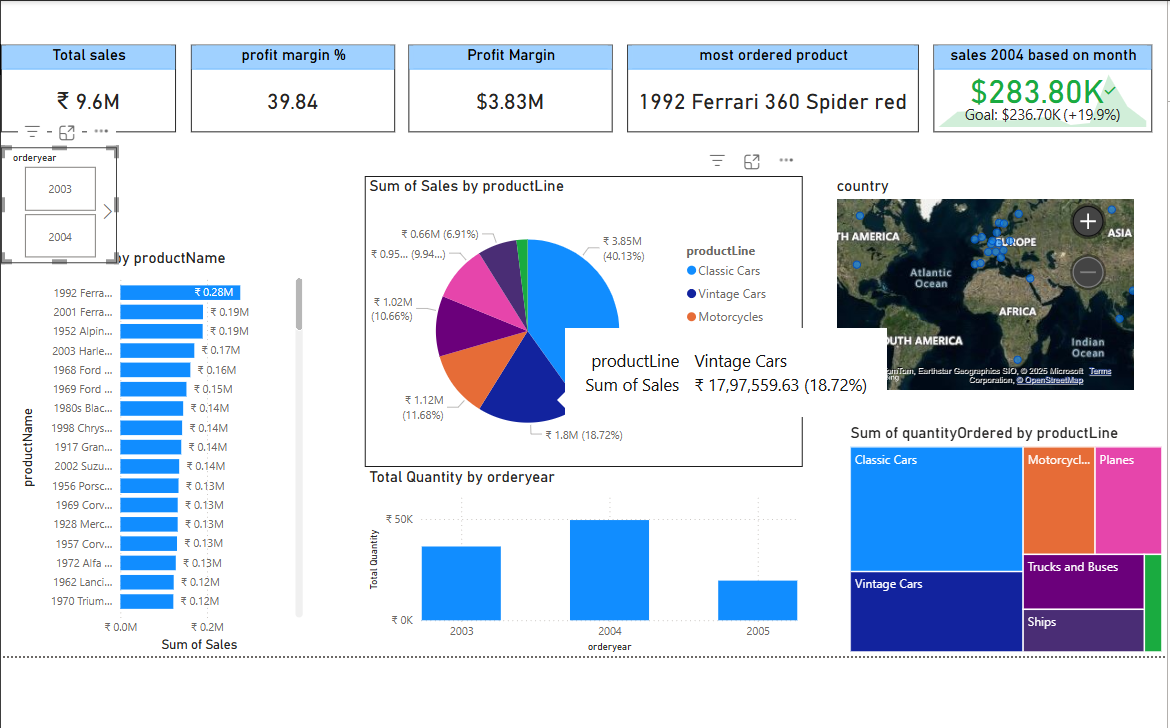

This screenshot's page, from the dashboard's own definition file:
{"tool":"powerbi","page":{"name":"Page 1","canvas":[1280,720],"ordinal":0},"visuals":[{"type":"barChart","fields":{"Category":["products.productName"],"Y":["Sum(order details.Sales)"]},"box":[0,272,320,448],"z":0},{"type":"pieChart","fields":{"Category":["productlines.productLine"],"Y":["Sum(order details.Sales)"]},"box":[400,192,480,320],"z":1000},{"type":"slicer","fields":{"Values":["orders.orderyear"]},"box":[0,176,128,128],"z":2000},{"type":"map","fields":{"Category":["customers.country"]},"box":[912,192,336,240],"z":3000},{"type":"treemap","fields":{"Group":["productlines.productLine"],"Values":["Sum(order details.quantityOrdered)"]},"box":[928,464,352,256],"z":4000},{"type":"columnChart","fields":{"Y":["order details.Total Quantity"],"Category":["orders.orderyear"]},"box":[400,512,480,208],"z":5000},{"type":"card","title":"Profit Margin","fields":{"Values":["order details.total_profit1"]},"box":[448,48,224,96],"z":6000},{"type":"card","title":"most ordered product","fields":{"Values":["products.MaxQuantityOrdered"]},"box":[688,48,320,96],"z":7000},{"type":"kpi","title":"sales 2004 based on month","fields":{"TrendLine":["orders.Month Name"],"Goal":["orders.sales2003"],"Indicator":["orders.sales2004"]},"box":[1024,48,240,96],"z":8000},{"type":"card","title":"profit margin %","fields":{"Values":["classic_models_dataset.Profit Margin %"]},"box":[208,48,224,96],"z":9000},{"type":"card","title":"Total sales","fields":{"Values":["Sum(order details.Sales)"]},"box":[0,48,192,96],"z":10000}]}

Visuals, with their boxes on the page's 1280x720 design canvas (x1, y1, x2, y2). These are canvas units, not pixel positions in the 1170x728 screenshot, which may show the page scaled, cropped or inside an application window:
barChart - products.productName x Sum(order details.Sales): Rect(0, 272, 320, 720)
pieChart - productlines.productLine x Sum(order details.Sales): Rect(400, 192, 880, 512)
slicer - orders.orderyear: Rect(0, 176, 128, 304)
map - customers.country: Rect(912, 192, 1248, 432)
treemap - productlines.productLine x Sum(order details.quantityOrdered): Rect(928, 464, 1280, 720)
columnChart - order details.Total Quantity x orders.orderyear: Rect(400, 512, 880, 720)
"Profit Margin" card: Rect(448, 48, 672, 144)
"most ordered product" card: Rect(688, 48, 1008, 144)
"sales 2004 based on month" kpi: Rect(1024, 48, 1264, 144)
"profit margin %" card: Rect(208, 48, 432, 144)
"Total sales" card: Rect(0, 48, 192, 144)
